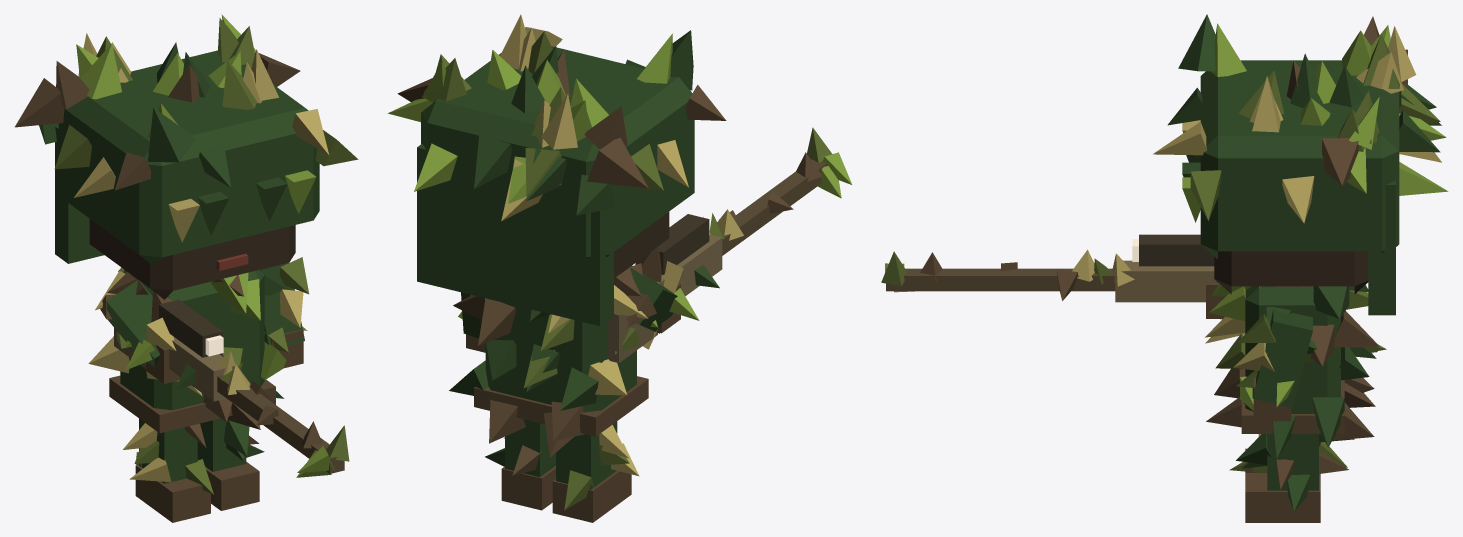
The model's file is sniper_legend.glb.
The picture shows the model from 3 angles, left to right: view 1: azimuth 30°, elevation 25°; view 2: azimuth 150°, elevation 25°; view 3: azimuth 270°, elevation 25°; orthographic projection. The views are drawn at different scales.
Parts seen in each view (by area): view 1: sniper_legend_mesh; view 2: sniper_legend_mesh; view 3: sniper_legend_mesh.
Part boxes in pixels (x1,y1,x2,y2): sniper_legend_mesh: (15, 14, 358, 522); sniper_legend_mesh: (388, 14, 852, 522); sniper_legend_mesh: (881, 14, 1448, 522).
Bounding box in the file's own units: 0.8083 × 1.3 × 1.48.
2 materials, 2 textured.
